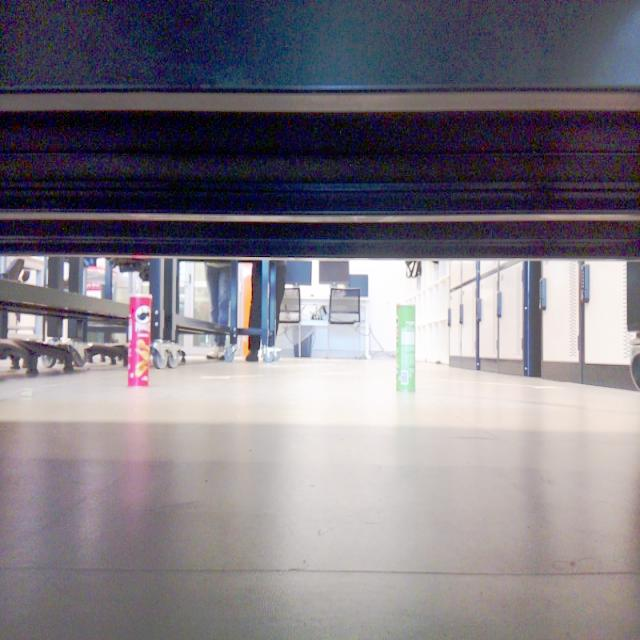greenpringles: (385, 293, 424, 405)
redpringles: (116, 281, 166, 389)
